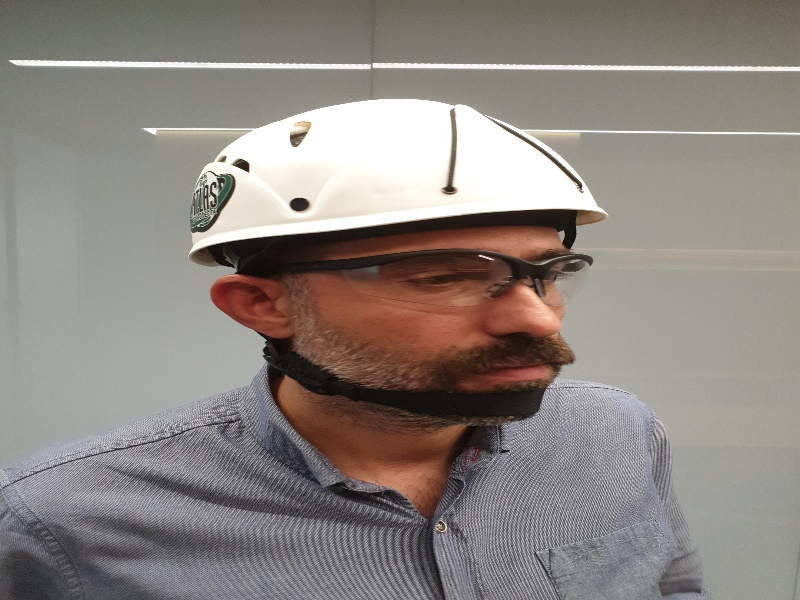Baret: (182, 98, 611, 254)
Gozluk: (274, 247, 594, 308)
